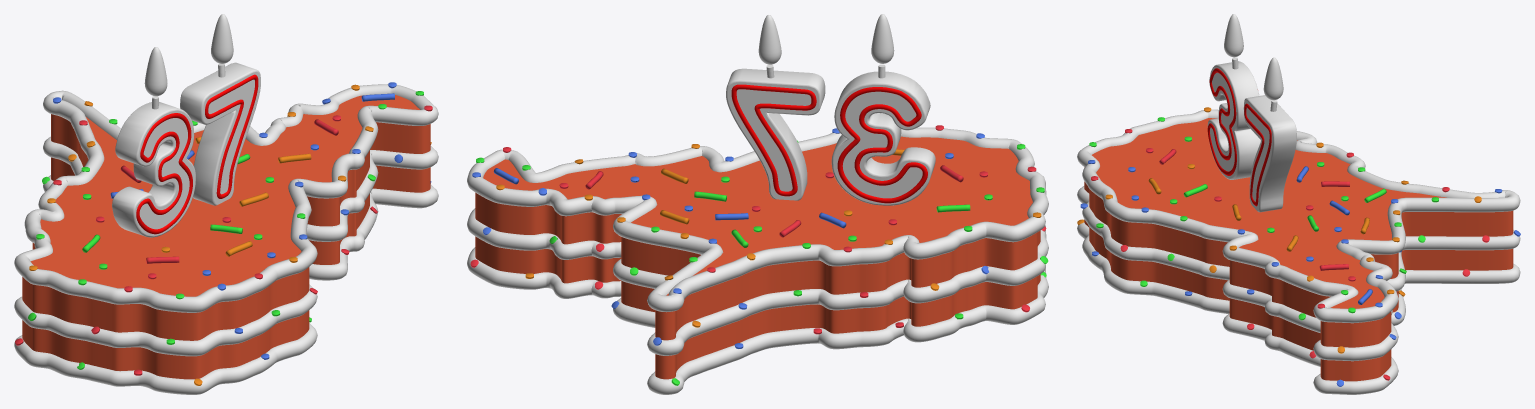
Rendered from WVCake2023.glb.
The picture shows the model from 3 angles, left to right: view 1: azimuth 30°, elevation 25°; view 2: azimuth 150°, elevation 25°; view 3: azimuth 270°, elevation 25°; orthographic projection. The views are drawn at different scales.
Parts seen in each view (by area): view 1: SimplifiedWV.001, Layer1.001, Layer2.001, Layer2.002, FirstNumber, SecondNumber, ThreeOutline.002, SevenOutline.002, CandleFlame2, CandleFlame1; view 2: SimplifiedWV.001, Layer1.001, Layer2.001, Layer2.002, FirstNumber, SecondNumber, ThreeOutline.003, SevenOutline.003, CandleFlame2, CandleFlame1; view 3: SimplifiedWV.001, Layer1.001, Layer2.001, Layer2.002, SecondNumber, FirstNumber, ThreeOutline.002, SevenOutline.002, CandleFlame1, CandleFlame2.
Part boxes in pixels (box(x1,y1,x2,y2)): SimplifiedWV.001: box(22, 95, 430, 379); Layer1.001: box(14, 84, 438, 312); Layer2.001: box(14, 136, 438, 356); Layer2.002: box(14, 175, 438, 394); FirstNumber: box(112, 102, 195, 237); SecondNumber: box(180, 62, 260, 205); ThreeOutline.002: box(136, 113, 192, 234); SevenOutline.002: box(205, 74, 258, 198); CandleFlame2: box(211, 14, 233, 63); CandleFlame1: box(144, 47, 167, 96); SimplifiedWV.001: box(475, 136, 1040, 379); Layer1.001: box(467, 127, 1048, 312); Layer2.001: box(467, 208, 1048, 355); Layer2.002: box(467, 247, 1048, 394); FirstNumber: box(831, 71, 935, 205); SecondNumber: box(726, 68, 825, 200); ThreeOutline.003: box(837, 87, 927, 203); SevenOutline.003: box(731, 84, 816, 196); CandleFlame2: box(758, 15, 781, 64); CandleFlame1: box(871, 14, 894, 63); SimplifiedWV.001: box(1084, 118, 1513, 381); Layer1.001: box(1077, 109, 1520, 323); Layer2.001: box(1077, 186, 1520, 361); Layer2.002: box(1077, 219, 1520, 394); SecondNumber: box(1243, 95, 1296, 212); FirstNumber: box(1207, 61, 1260, 179); ThreeOutline.002: box(1207, 68, 1236, 175); SevenOutline.002: box(1244, 103, 1271, 206); CandleFlame1: box(1224, 14, 1243, 57); CandleFlame2: box(1263, 57, 1283, 100).
Size of the model in its own units: 4.78 by 2.6 by 4.36.
